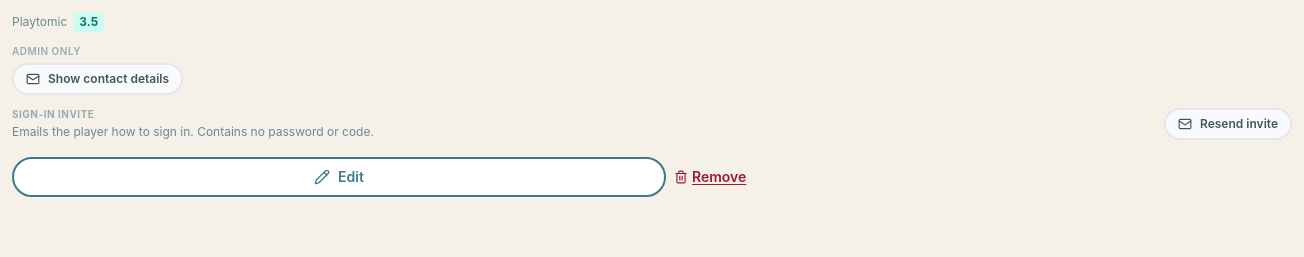
Test: PlayerProfile — contact details reveal › shows a retryable error instead of blanks when the read fails
Click the button "Show contact details" at point(98, 79), box [12, 63, 183, 95]
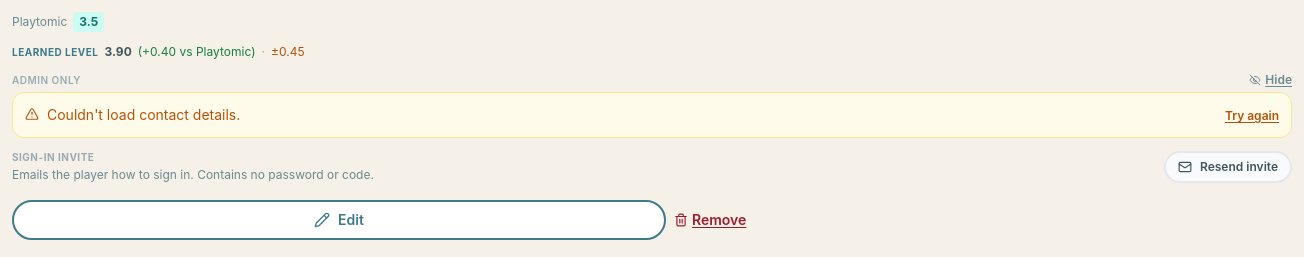
Expected: the text "ada@example.com" is not shown
Now the text "Couldn't load contact details." is shown, box [47, 106, 240, 123]
Click the button "Try again" at point(1252, 116), box [1225, 108, 1279, 124]
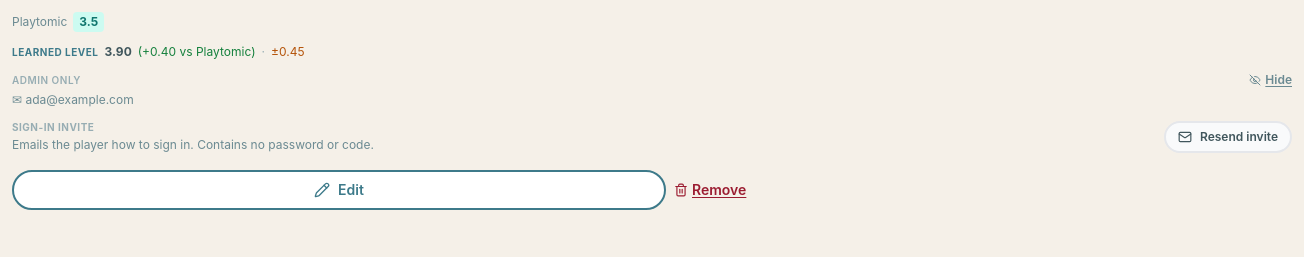
Now the text "✉ ada@example.com" is shown, box [12, 92, 134, 107]
